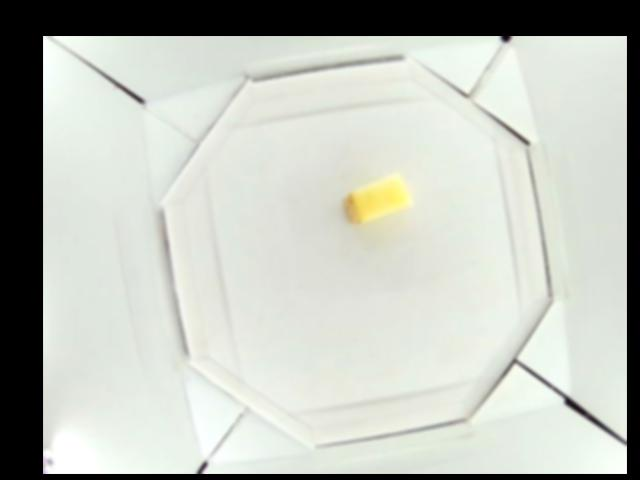Potato: (344, 173, 411, 223)
